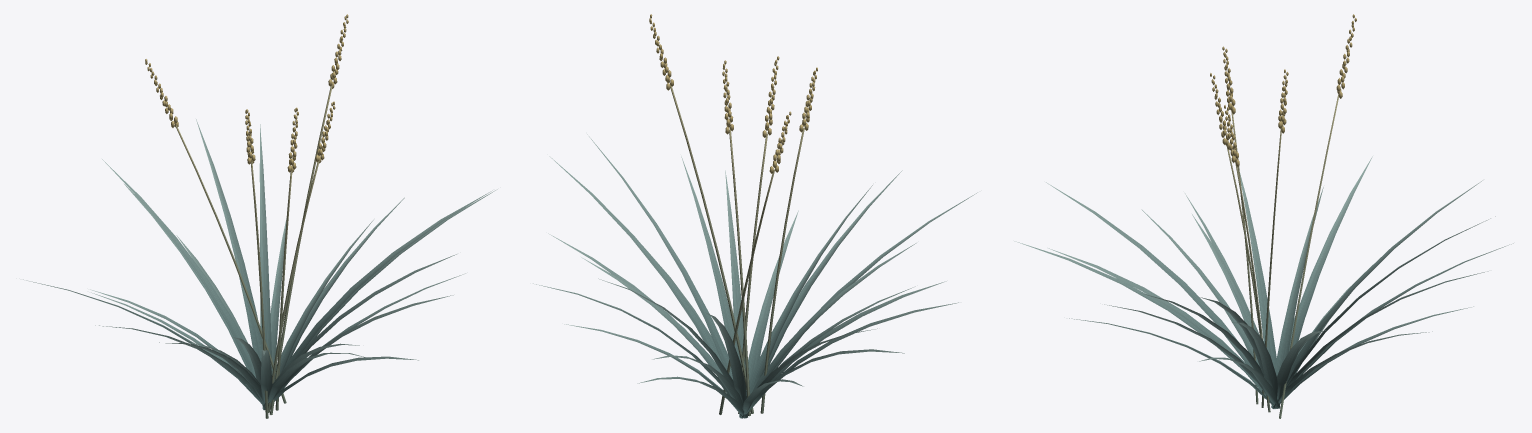
The model's file is lymegrass.glb.
3 renders of one model, left to right at view 1: azimuth 30°, elevation 25°; view 2: azimuth 150°, elevation 25°; view 3: azimuth 270°, elevation 25°, orthographic. The views are drawn at different scales.
Visible parts, largest first — view 1: lymegrass; view 2: lymegrass; view 3: lymegrass.
Boxes of the visible parts, x1,y1,x2,y2 form: lymegrass: (23,14,497,418); lymegrass: (533,14,977,418); lymegrass: (1014,14,1513,418).
Size of the model in its own units: 1.29 by 1.1 by 1.32.
Materials: 1 (1 with a texture image).
